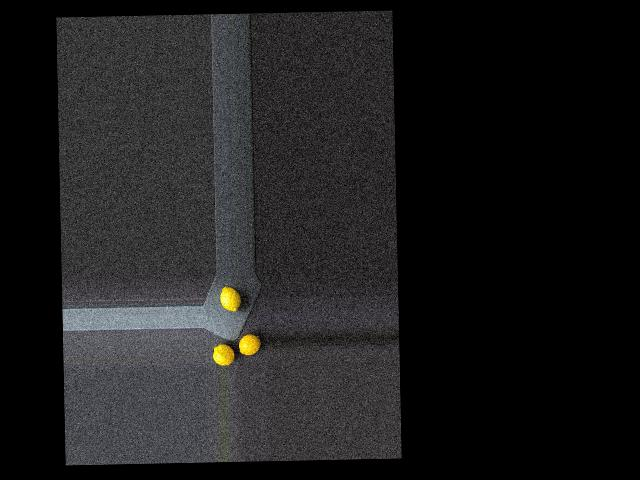lemon: (211, 342, 235, 367)
